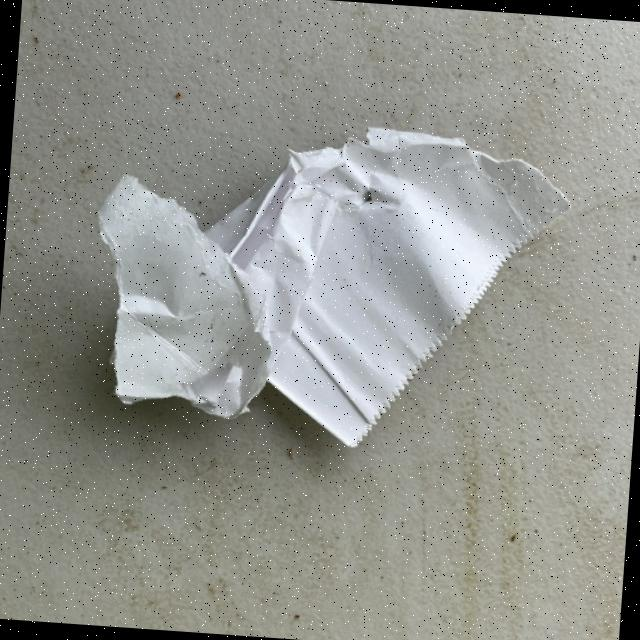paper: (82, 105, 575, 461)
